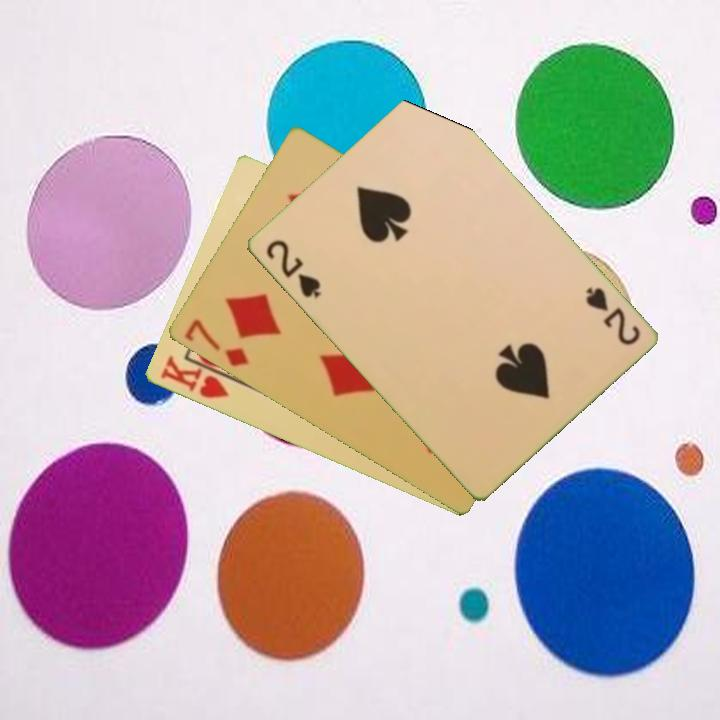2s: (261, 236, 324, 302), (581, 283, 643, 349)
7d: (180, 315, 251, 370)
Kh: (156, 352, 241, 402)
